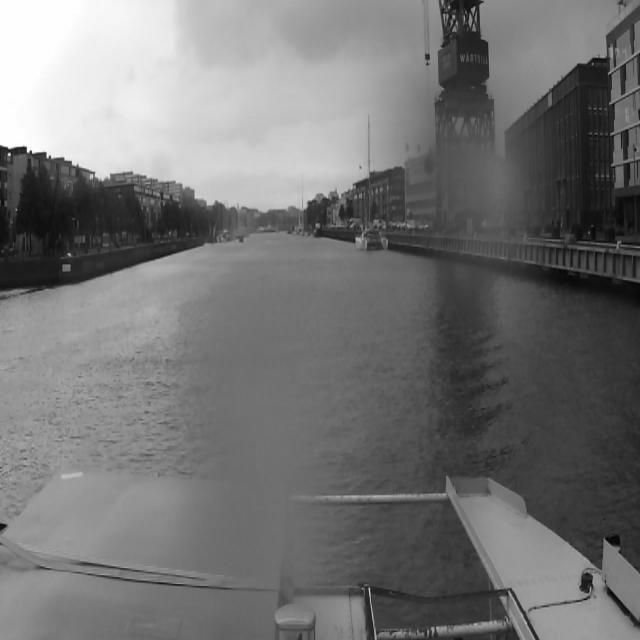ship: (355, 114, 389, 253)
